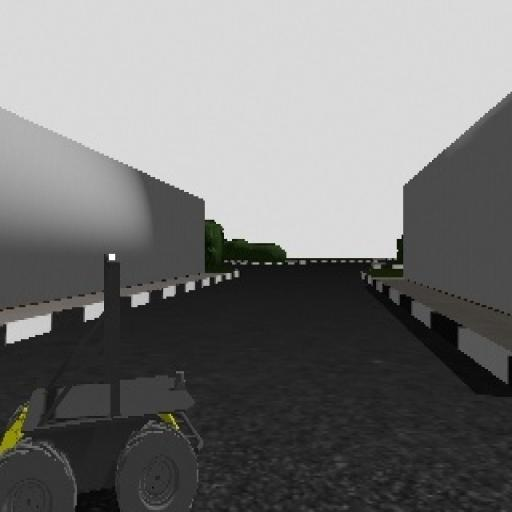huskya200: (1, 234, 206, 512)
